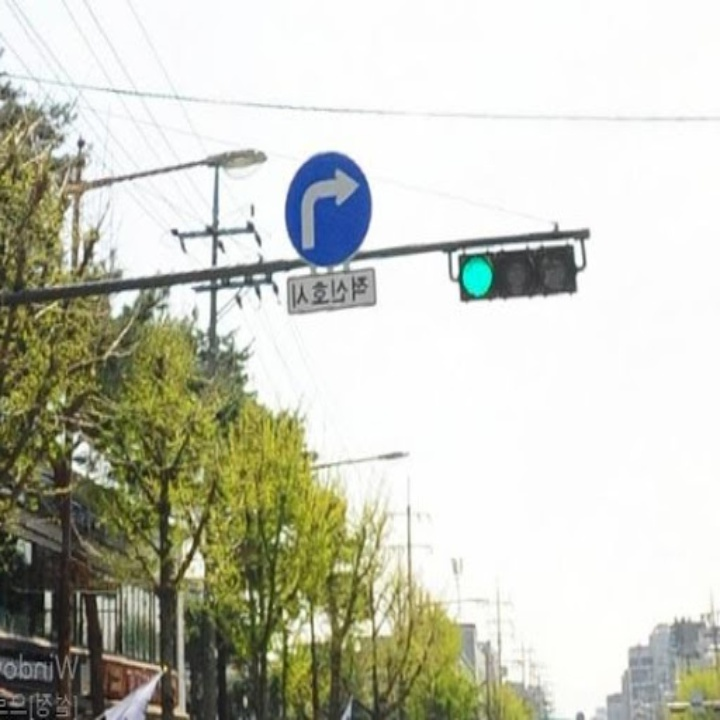right: (296, 164, 360, 252)
